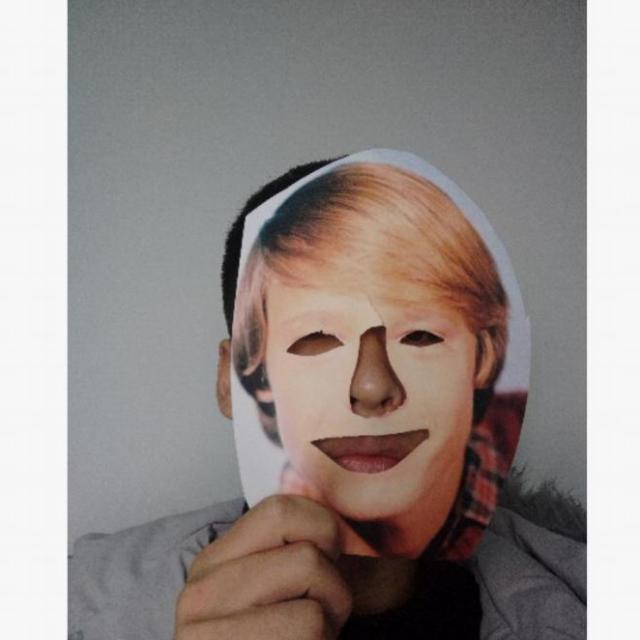mask: (226, 145, 537, 574)
